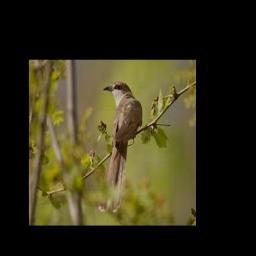Cuckoo: (99, 81, 143, 212)
